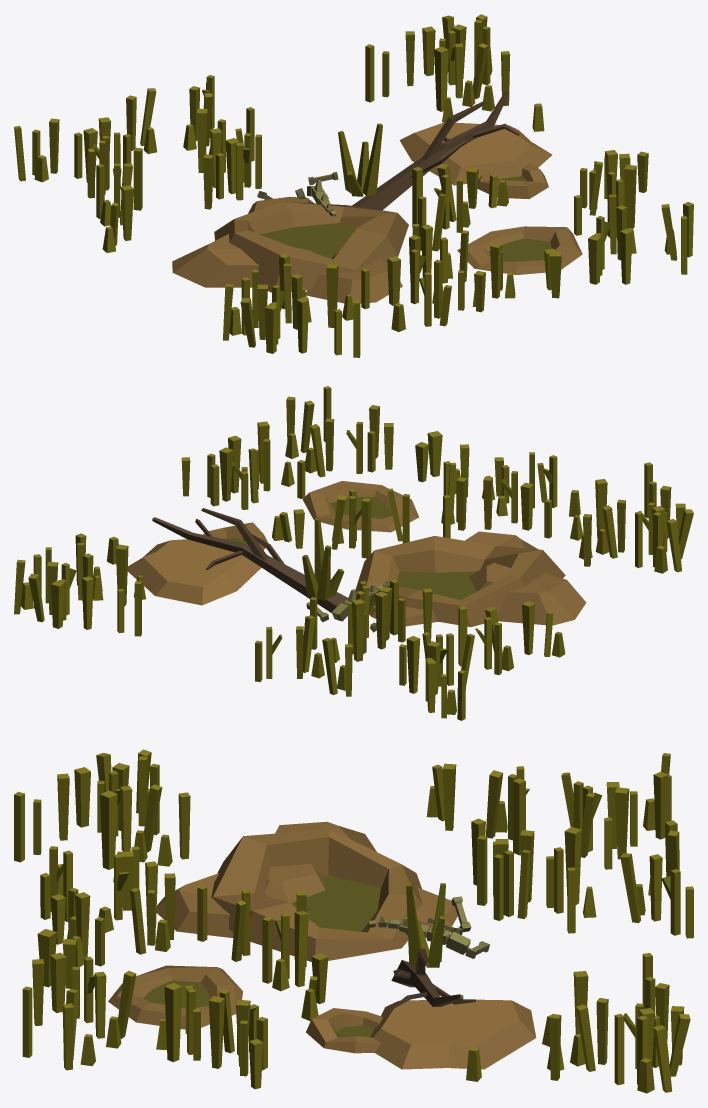
The model's file is SF_Env_Swamp_Preset_04.FBX.
3 renders of one model, top to bottom at view 1: azimuth 30°, elevation 25°; view 2: azimuth 150°, elevation 25°; view 3: azimuth 270°, elevation 25°, orthographic. The views are drawn at different scales.
Parts seen in each view (by area): view 1: SF_Env_Swamp_Preset_04_Elements128, SF_Env_Swamp_Preset_04_Elements134, SF_Env_Swamp_Preset_04_Elements132, SF_Env_Swamp_Preset_04_Elements109, SF_Env_Swamp_Preset_04_Elements71, SF_Env_Swamp_Preset_04_Elements138, SF_Env_Swamp_Preset_04_Elements30, SF_Env_Swamp_Preset_04_Elements102, SF_Env_Swamp_Preset_04_Elements142, SF_Env_Swamp_Preset_04_Elements148, SF_Env_Swamp_Preset_04_Elements97, SF_Env_Swamp_Preset_04_Elements35 (+6 smaller); view 2: SF_Env_Swamp_Preset_04_Elements128, SF_Env_Swamp_Preset_04_Elements134, SF_Env_Swamp_Preset_04_Elements132, SF_Env_Swamp_Preset_04_Elements12, SF_Env_Swamp_Preset_04_Elements6, SF_Env_Swamp_Preset_04_Elements25, SF_Env_Swamp_Preset_04_Elements88, SF_Env_Swamp_Preset_04_Elements72, SF_Env_Swamp_Preset_04_Elements35, SF_Env_Swamp_Preset_04_Elements119, SF_Env_Swamp_Preset_04_Elements109, SF_Env_Swamp_Preset_04_Elements101 (+6 smaller); view 3: SF_Env_Swamp_Preset_04_Elements128, SF_Env_Swamp_Preset_04_Elements134, SF_Env_Swamp_Preset_04_Elements132, SF_Env_Swamp_Preset_04_Elements71, SF_Env_Swamp_Preset_04_Elements138, SF_Env_Swamp_Preset_04_Elements65, SF_Env_Swamp_Preset_04_Elements82, SF_Env_Swamp_Preset_04_Elements165, SF_Env_Swamp_Preset_04_Elements12, SF_Env_Swamp_Preset_04_Elements148, SF_Env_Swamp_Preset_04_Elements102, SF_Env_Swamp_Preset_04_Elements25 (+47 smaller).
Part boxes in pixels (<box>): SF_Env_Swamp_Preset_04_Elements128: <box>172,196,408,303</box>; SF_Env_Swamp_Preset_04_Elements134: <box>338,91,552,210</box>; SF_Env_Swamp_Preset_04_Elements132: <box>457,226,582,274</box>; SF_Env_Swamp_Preset_04_Elements109: <box>434,46,448,111</box>; SF_Env_Swamp_Preset_04_Elements71: <box>624,164,636,228</box>; SF_Env_Swamp_Preset_04_Elements138: <box>326,263,338,327</box>; SF_Env_Swamp_Preset_04_Elements30: <box>133,147,142,210</box>; SF_Env_Swamp_Preset_04_Elements102: <box>588,235,601,284</box>; SF_Env_Swamp_Preset_04_Elements142: <box>296,297,308,353</box>; SF_Env_Swamp_Preset_04_Elements148: <box>264,304,278,353</box>; SF_Env_Swamp_Preset_04_Elements97: <box>620,229,632,284</box>; SF_Env_Swamp_Preset_04_Elements35: <box>121,185,133,240</box>; SF_Env_Swamp_Preset_04_Elements128: <box>355,531,586,626</box>; SF_Env_Swamp_Preset_04_Elements134: <box>127,508,348,620</box>; SF_Env_Swamp_Preset_04_Elements132: <box>302,481,419,532</box>; SF_Env_Swamp_Preset_04_Elements12: <box>351,599,365,661</box>; SF_Env_Swamp_Preset_04_Elements6: <box>375,591,388,649</box>; SF_Env_Swamp_Preset_04_Elements25: <box>406,636,420,693</box>; SF_Env_Swamp_Preset_04_Elements88: <box>361,498,371,558</box>; SF_Env_Swamp_Preset_04_Elements72: <box>219,447,233,501</box>; SF_Env_Swamp_Preset_04_Elements35: <box>522,601,535,654</box>; SF_Env_Swamp_Preset_04_Elements119: <box>51,581,64,628</box>; SF_Env_Swamp_Preset_04_Elements109: <box>116,544,128,606</box>; SF_Env_Swamp_Preset_04_Elements101: <box>427,431,442,476</box>; SF_Env_Swamp_Preset_04_Elements128: <box>156,821,457,961</box>; SF_Env_Swamp_Preset_04_Elements134: <box>306,883,536,1069</box>; SF_Env_Swamp_Preset_04_Elements132: <box>108,965,242,1029</box>; SF_Env_Swamp_Preset_04_Elements71: <box>164,982,182,1062</box>; SF_Env_Swamp_Preset_04_Elements138: <box>100,790,117,869</box>; SF_Env_Swamp_Preset_04_Elements65: <box>208,996,224,1068</box>; SF_Env_Swamp_Preset_04_Elements82: <box>294,911,308,987</box>; SF_Env_Swamp_Preset_04_Elements165: <box>378,915,470,954</box>; SF_Env_Swamp_Preset_04_Elements12: <box>564,827,581,904</box>; SF_Env_Swamp_Preset_04_Elements148: <box>74,767,90,827</box>; SF_Env_Swamp_Preset_04_Elements102: <box>50,952,66,1012</box>; SF_Env_Swamp_Preset_04_Elements25: <box>614,787,629,859</box>.
Size of the model in its own units: 19.22 by 3.78 by 19.49.
